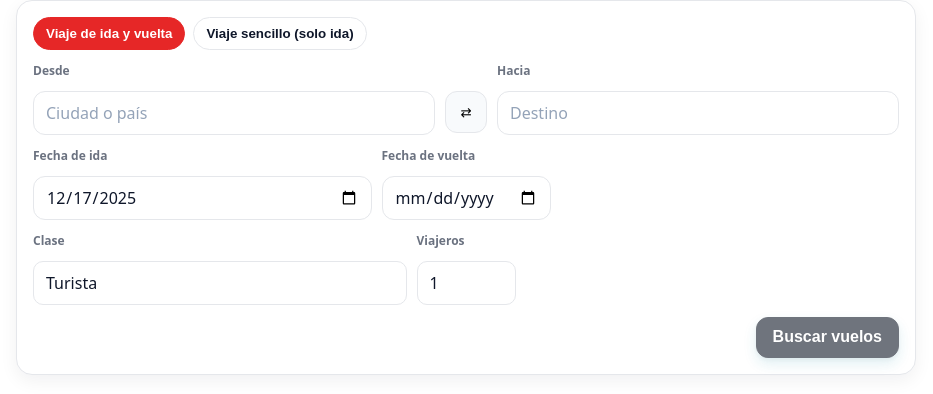
Test: CajaCompras › habilita el botón cuando el formulario está completo
This screenshot has width=933, height=394.
Expected: the button "Buscar vuelos" is disabled, top-left (756, 317), bottom-right (899, 358)
// llenar origen y destino
Type "Guatemala" into the field with placeholder "Ciudad o país" at (234, 113), box top-left (33, 91), bottom-right (435, 135)
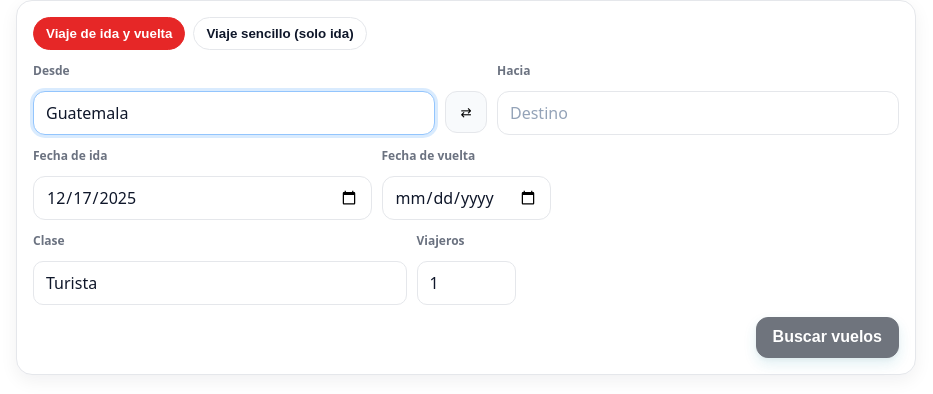
Type "Madrid" into the field with placeholder "Destino" at (698, 113), box top-left (497, 91), bottom-right (899, 135)
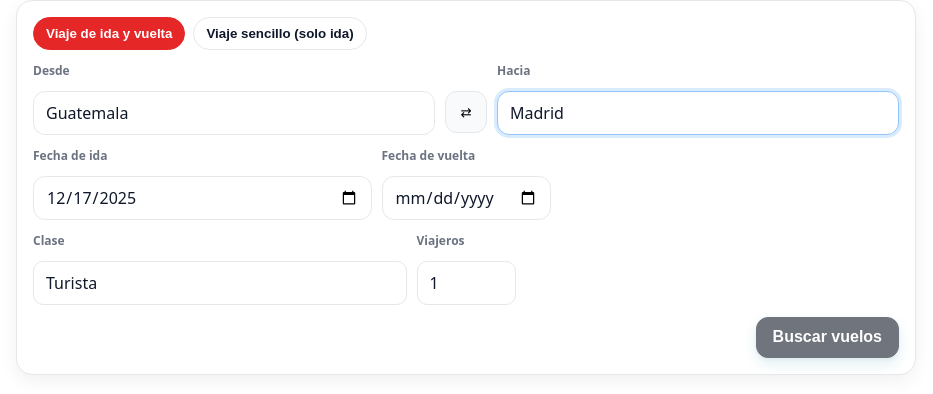
// llenar fechas correctamente (en los inputs de tipo date)
Type "2030-01-10" into the date field with test id "fecha-ida" at (202, 198), box top-left (33, 176), bottom-right (372, 220)
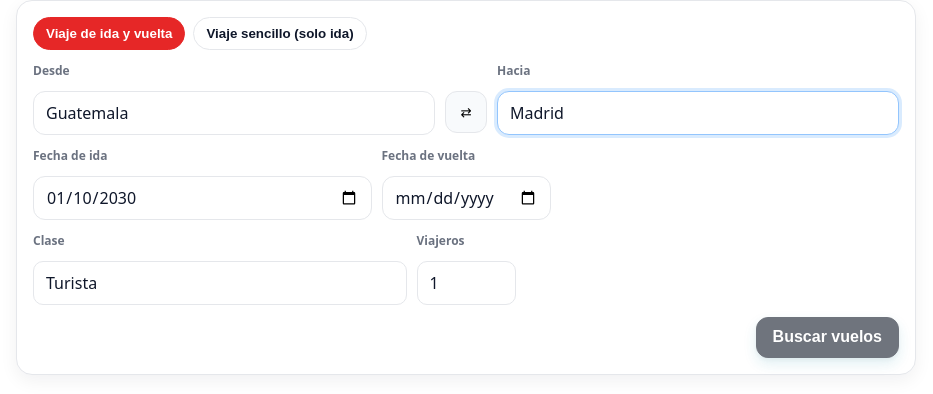
Type "2030-01-20" into the date field with test id "fecha-vuelta" at (466, 198), box top-left (382, 176), bottom-right (550, 220)
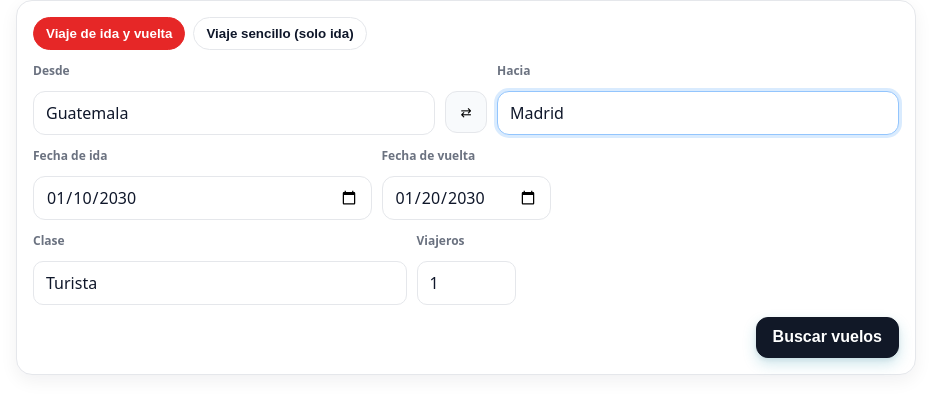
Result: the button "Buscar vuelos" is enabled at top-left (756, 317), bottom-right (899, 358)
